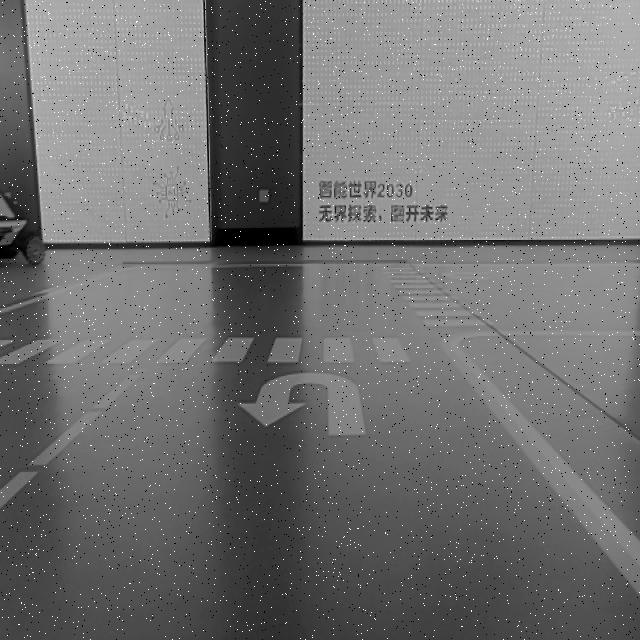left_lane: (0, 372, 145, 509)
right_lane: (448, 347, 639, 590)
